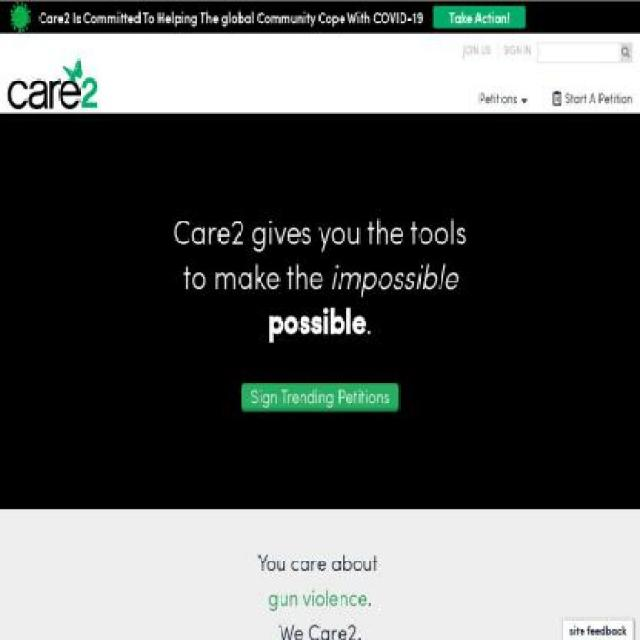button: (241, 382, 473, 416), (8, 59, 97, 110), (433, 6, 525, 28), (552, 87, 632, 108)
field: (538, 43, 619, 62)
